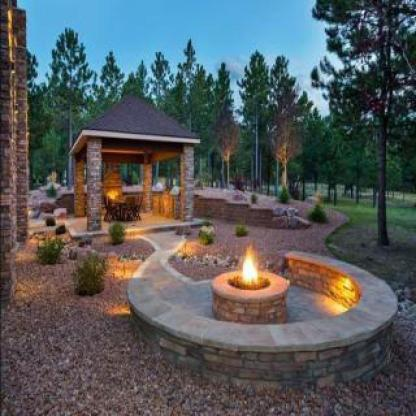fire: (240, 238, 262, 292)
